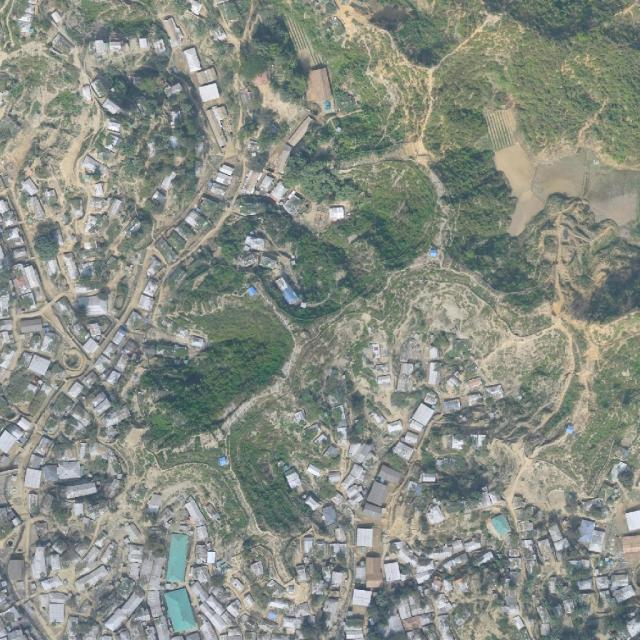agricultural_land: (485, 98, 640, 237)
building: (502, 509, 609, 622), (433, 544, 499, 578), (434, 589, 477, 640), (103, 590, 146, 634), (93, 400, 134, 443), (204, 102, 238, 150), (361, 473, 394, 522), (181, 494, 213, 541), (19, 177, 47, 223), (12, 264, 40, 310), (196, 601, 229, 634), (340, 462, 370, 494), (407, 402, 436, 434), (281, 190, 311, 220), (271, 276, 300, 307), (98, 404, 132, 430), (47, 32, 77, 61), (78, 153, 108, 181), (161, 15, 186, 48), (122, 544, 144, 581), (485, 513, 513, 542), (395, 593, 425, 620), (77, 294, 108, 319), (48, 392, 76, 419), (16, 0, 37, 34), (69, 403, 95, 429), (60, 250, 81, 282), (63, 481, 98, 500), (390, 438, 416, 463), (181, 46, 204, 74), (395, 361, 415, 393), (27, 352, 52, 377), (189, 561, 214, 586), (348, 442, 374, 466), (49, 592, 68, 624), (30, 546, 48, 579), (164, 230, 188, 254), (268, 180, 291, 205), (81, 544, 103, 570), (22, 262, 43, 289), (147, 556, 163, 591), (120, 519, 143, 543), (188, 579, 211, 603), (263, 578, 287, 601), (56, 460, 83, 480), (576, 518, 596, 544), (11, 274, 33, 297), (204, 595, 227, 617), (145, 590, 163, 618), (144, 255, 164, 280), (86, 501, 111, 521), (424, 546, 453, 563), (197, 197, 219, 219), (198, 81, 220, 103), (18, 177, 40, 199), (1, 605, 23, 627), (224, 597, 246, 619), (22, 467, 43, 490), (89, 77, 110, 99), (159, 170, 180, 192), (91, 353, 112, 375), (415, 560, 435, 583), (205, 180, 229, 199), (612, 585, 636, 604), (41, 416, 62, 437), (368, 408, 389, 429), (73, 535, 93, 557), (34, 436, 53, 459), (608, 571, 631, 590), (106, 197, 126, 218), (122, 310, 143, 330), (196, 67, 218, 86), (113, 352, 132, 374), (588, 529, 605, 553), (183, 209, 203, 229), (101, 97, 121, 117), (446, 371, 466, 391), (110, 326, 129, 347), (68, 197, 86, 219), (1, 198, 15, 226), (20, 317, 43, 334), (136, 294, 156, 313), (249, 559, 268, 579), (326, 204, 347, 222), (89, 196, 110, 214), (301, 423, 322, 441), (483, 384, 505, 401), (66, 381, 85, 400), (82, 371, 101, 390), (105, 133, 123, 153), (84, 214, 102, 234), (155, 616, 170, 640), (346, 484, 364, 504), (9, 559, 24, 582), (78, 261, 96, 280), (15, 416, 34, 434), (6, 423, 25, 441), (142, 279, 160, 298), (128, 621, 146, 640), (258, 175, 275, 195), (149, 189, 167, 207), (51, 538, 69, 556), (340, 473, 358, 491), (303, 494, 321, 512), (42, 464, 59, 483), (214, 171, 234, 187), (18, 350, 34, 370), (49, 602, 65, 622), (462, 538, 482, 554), (429, 362, 442, 386), (122, 340, 139, 358), (346, 440, 363, 458), (84, 625, 104, 640), (268, 598, 293, 610), (244, 237, 265, 251), (423, 390, 440, 407), (42, 187, 58, 205), (29, 454, 46, 470), (91, 391, 108, 407), (102, 341, 118, 358), (219, 610, 236, 626), (386, 420, 403, 436), (41, 333, 55, 352), (417, 612, 434, 627), (306, 464, 323, 479), (332, 405, 347, 422), (376, 373, 393, 388), (401, 431, 419, 445), (258, 255, 277, 268), (212, 26, 228, 41), (93, 533, 108, 549), (287, 473, 302, 489), (336, 427, 348, 447), (446, 374, 461, 390), (0, 294, 10, 317), (106, 370, 121, 385), (153, 38, 167, 54), (80, 516, 94, 532), (312, 432, 328, 446), (218, 163, 235, 176), (326, 471, 343, 484), (132, 609, 150, 621), (443, 399, 461, 411), (196, 525, 209, 541), (467, 376, 483, 389), (50, 10, 64, 24), (595, 576, 609, 590), (468, 392, 482, 406), (400, 362, 414, 376), (93, 182, 105, 198), (507, 559, 523, 571), (371, 342, 382, 359), (127, 37, 140, 51), (451, 539, 464, 553), (374, 362, 389, 374), (107, 121, 122, 132), (599, 590, 611, 603), (79, 442, 88, 459), (50, 554, 60, 569), (74, 502, 84, 517), (39, 594, 49, 609), (109, 40, 121, 52), (94, 40, 104, 54), (206, 551, 216, 564), (428, 346, 438, 359), (83, 240, 94, 251), (442, 580, 451, 593), (139, 37, 148, 48), (429, 249, 438, 257)
dryland: (552, 193, 640, 325), (478, 331, 533, 431)
greenland: (397, 130, 595, 324), (404, 409, 623, 571), (112, 277, 305, 459), (93, 429, 291, 569), (88, 60, 217, 243), (283, 105, 436, 207), (281, 298, 431, 387), (259, 189, 362, 312), (448, 300, 561, 405), (238, 100, 337, 218), (345, 155, 440, 272), (226, 412, 310, 539), (365, 0, 464, 76), (386, 273, 493, 325), (394, 479, 481, 540), (389, 535, 484, 576), (239, 142, 298, 205), (282, 363, 357, 411), (245, 100, 294, 150), (427, 501, 447, 527)
